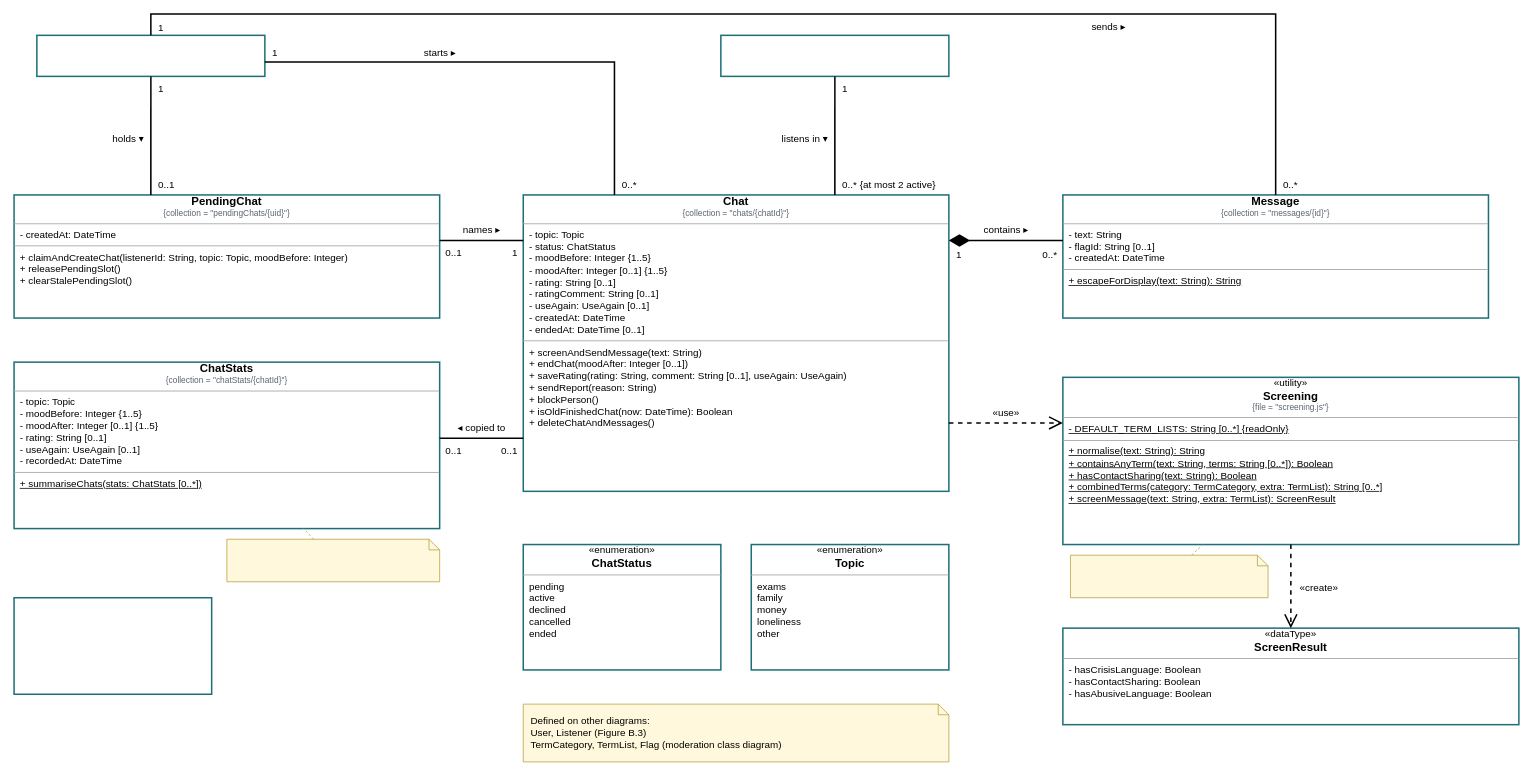
This 1532x775 diagram has some shape labels left out. The shapes that lost their labels are listed below. From the top down, each one's box as (x1, y1, x2, y2) in pixels, then its label:
(36, 34, 265, 77): User see Figure B.3
(720, 34, 949, 77): Listener see Figure B.3
(226, 538, 440, 582): Holds no personal data (no user or listener link)
(1070, 554, 1268, 598): Term lists: crisis, abuse, contact
(13, 597, 212, 695): «enumeration» UseAgain yes no not-sure
